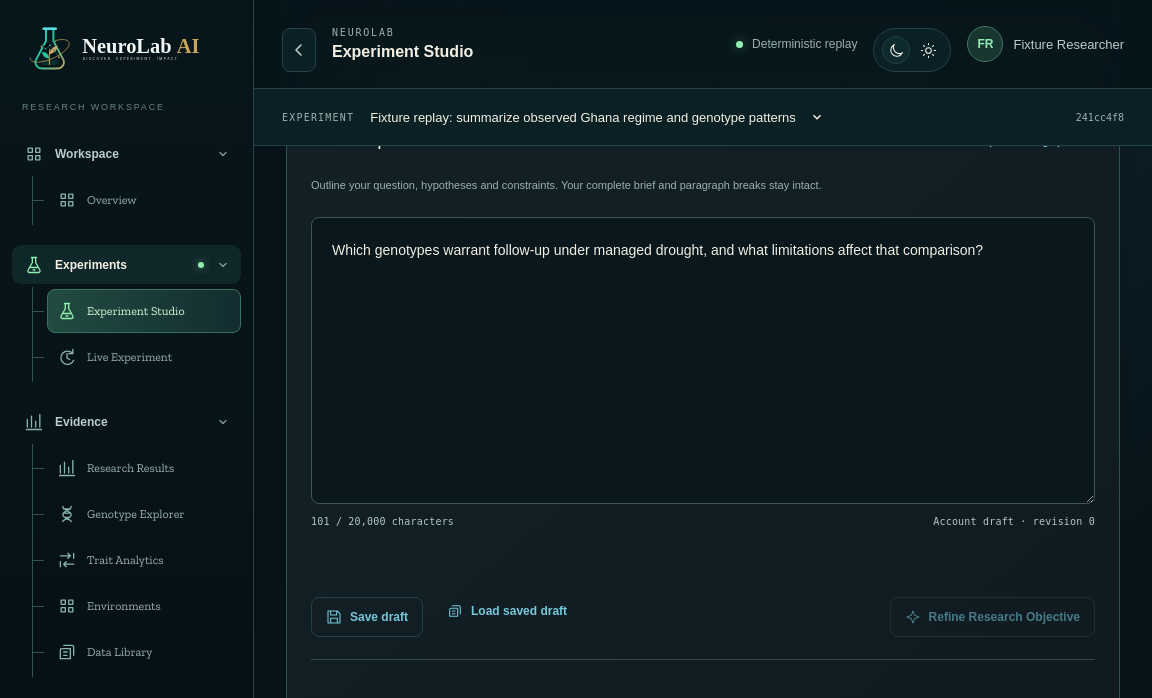
Test: authenticated real-data replay workspace › keeps a new admission busy when an older restored run finishes late
(page scrolled)
Expected: the link with aria-label "Account settings for Fixture Researcher" is shown, [968,22,1124,66]
Replace the text in the text box labelled "Research question" with "A new focused Ghana environment sensitivity investigation." at (703, 360), box [311,217,1095,504]
(page scrolled)
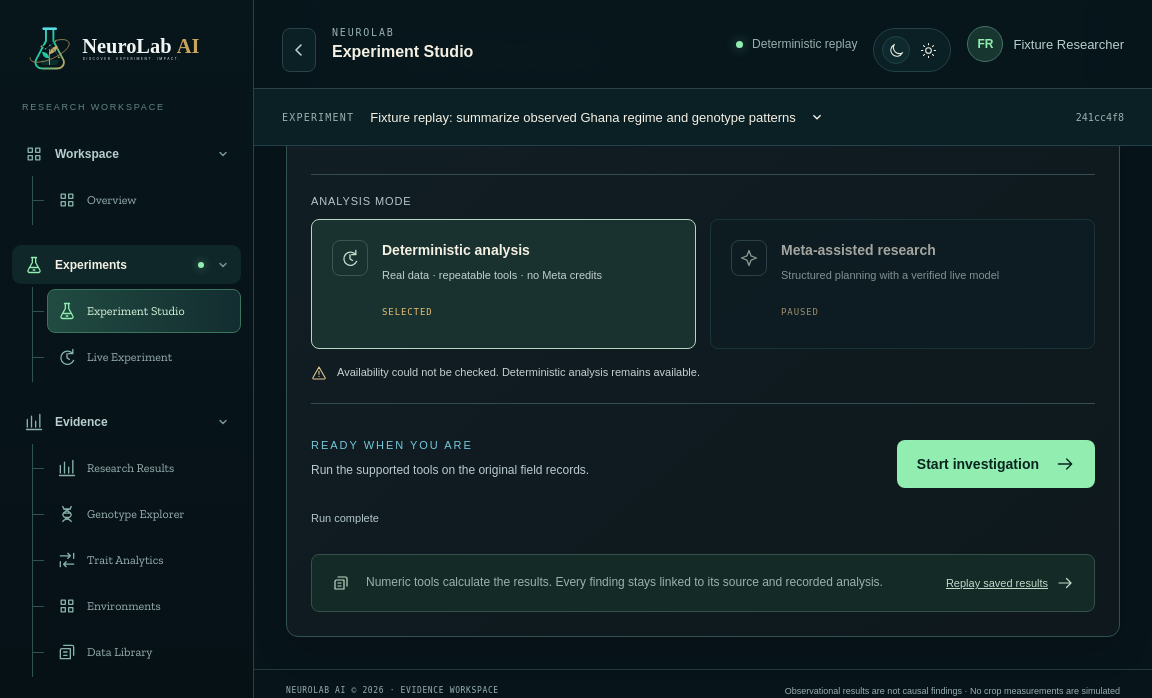
Click the button with aria-label "Generate experiment plan".
click(996, 464)  # box [897,440,1095,488]
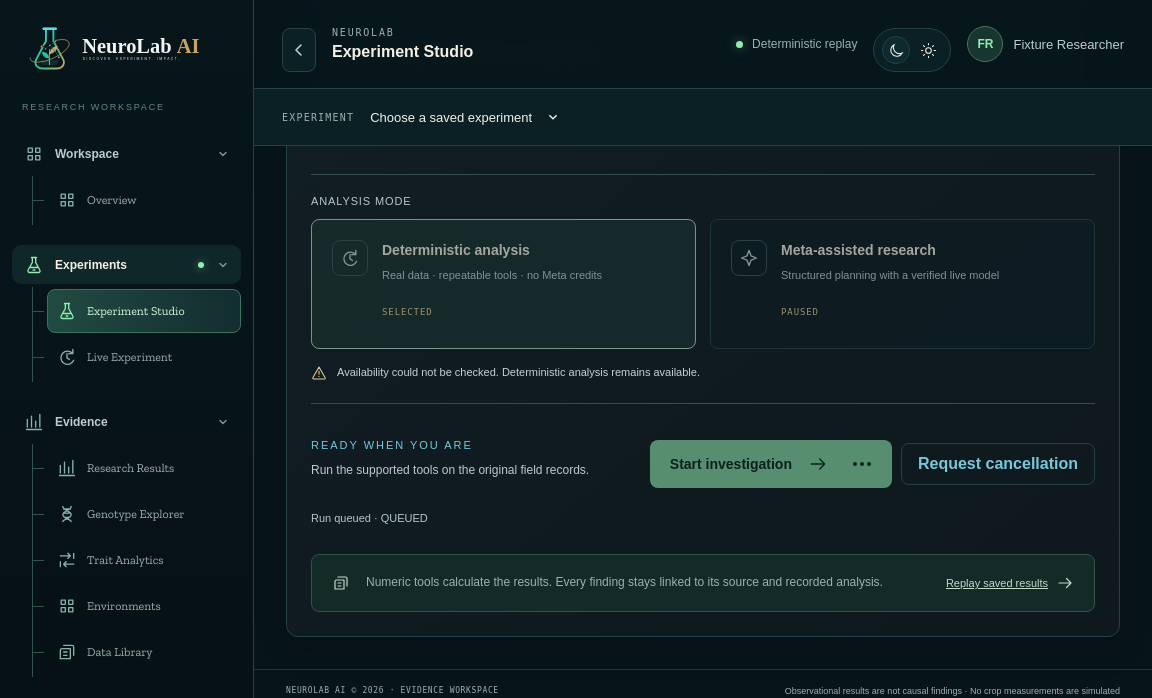
Result: the button with aria-label "Generate experiment plan" is disabled at [650,440,892,488]
Result: the text with class "status" no longer shows "Run complete"
